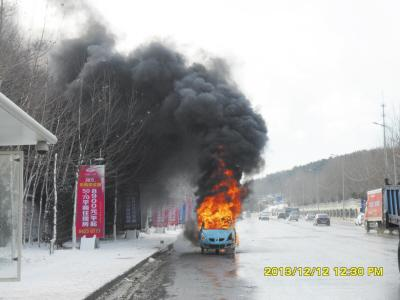smoke: (77, 1, 268, 184)
